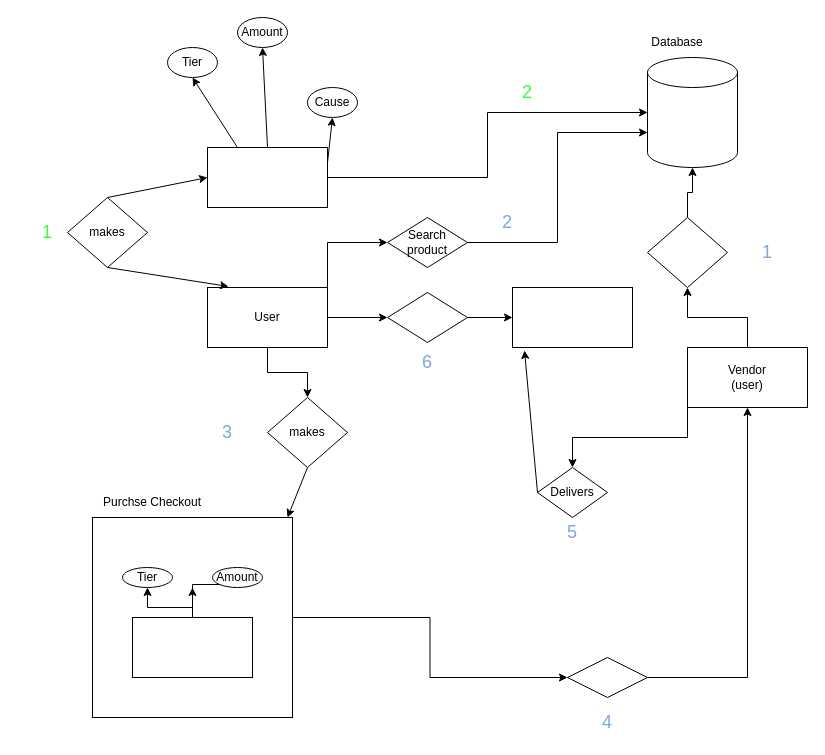
The diagram is 825 pixels wide and 755 high, and some of its shapes have lost their labels. Each missing label, with the centre of its shape:
"Donation" goes at (267,177).
"order" goes at (607,677).
"pickup" goes at (427,317).
"Products" goes at (192,647).
"Shop" goes at (572,317).
"upload product" goes at (687,252).
